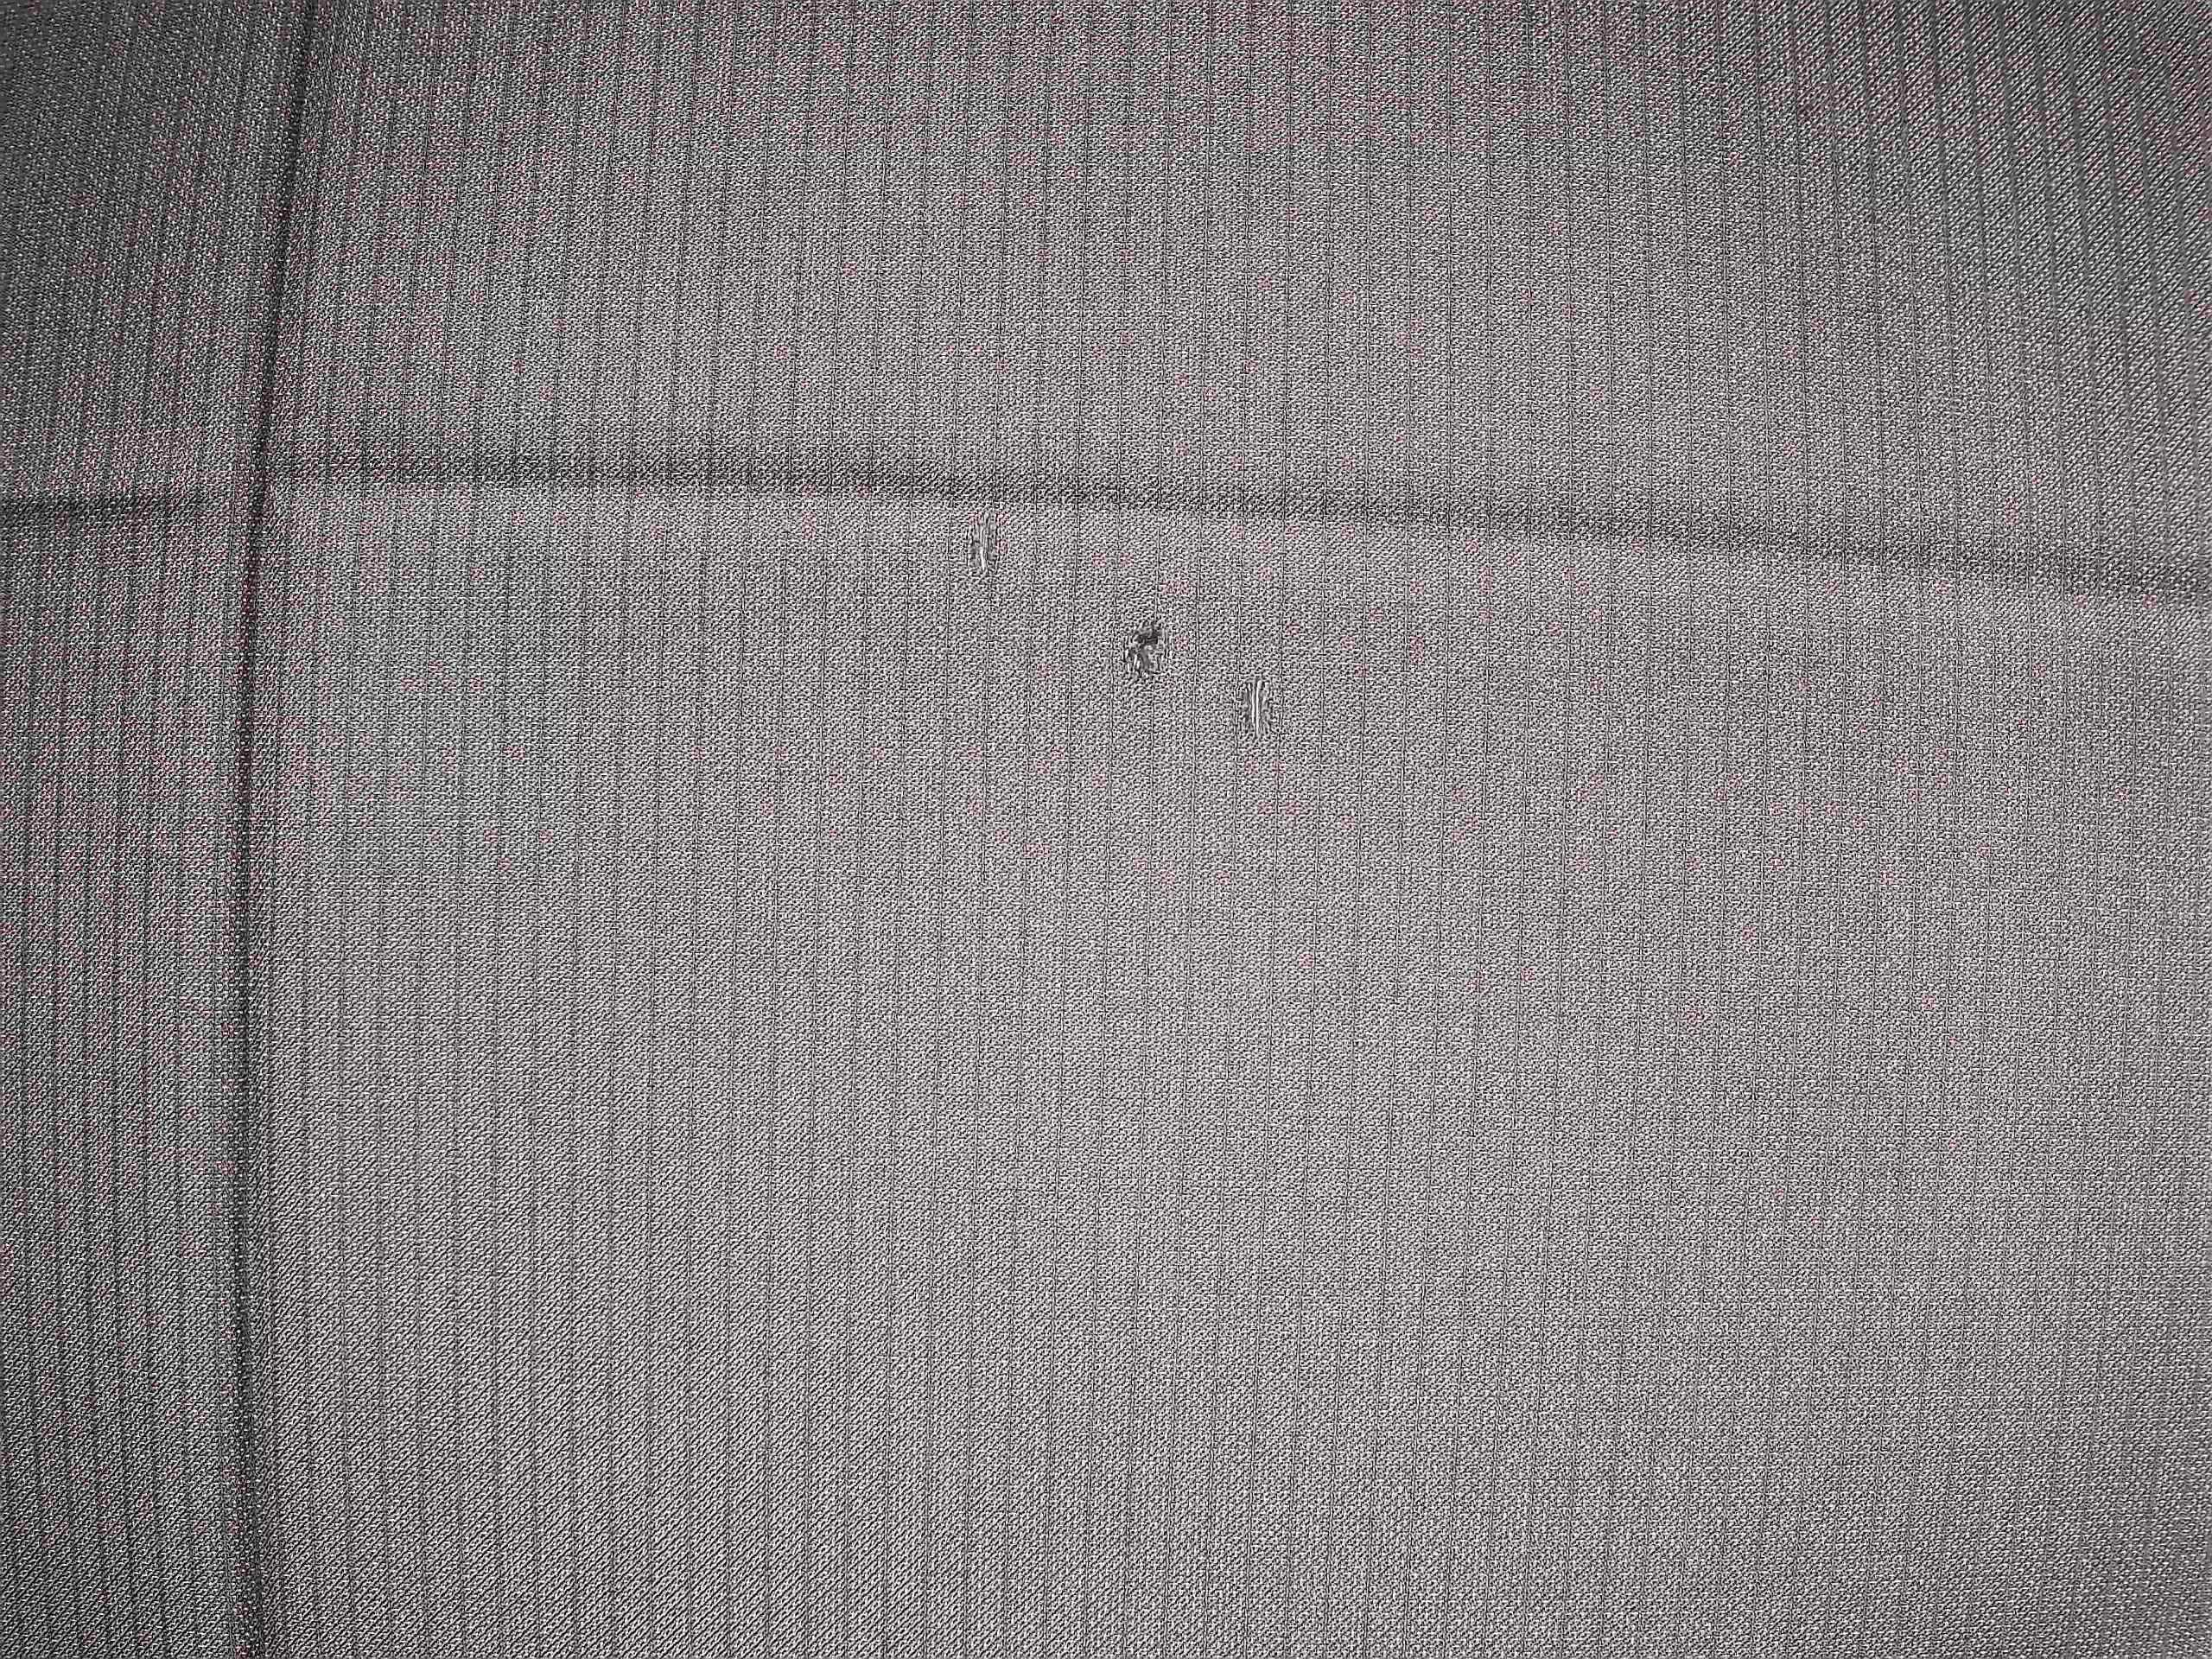rubbing-hole: (1101, 601, 1181, 711), (937, 507, 1026, 598), (1219, 667, 1294, 755)
